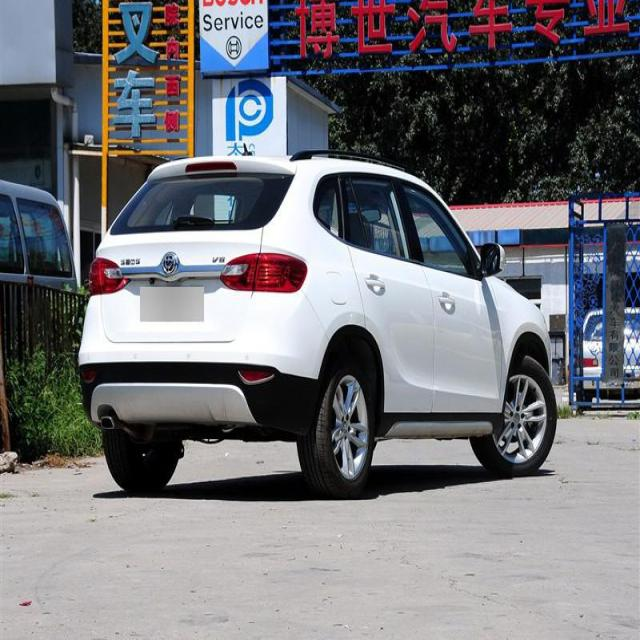back_glass: (112, 169, 294, 235)
back_left_side_light: (86, 255, 126, 297)
back_right_side_light: (220, 250, 310, 292)
door: (343, 179, 436, 422)
front_right_side_door: (394, 173, 504, 415)
front_right_side_mirror: (479, 240, 506, 278)
rear_bumper: (77, 288, 323, 427)
wheel: (474, 355, 557, 472), (312, 358, 376, 492), (102, 431, 180, 490)
